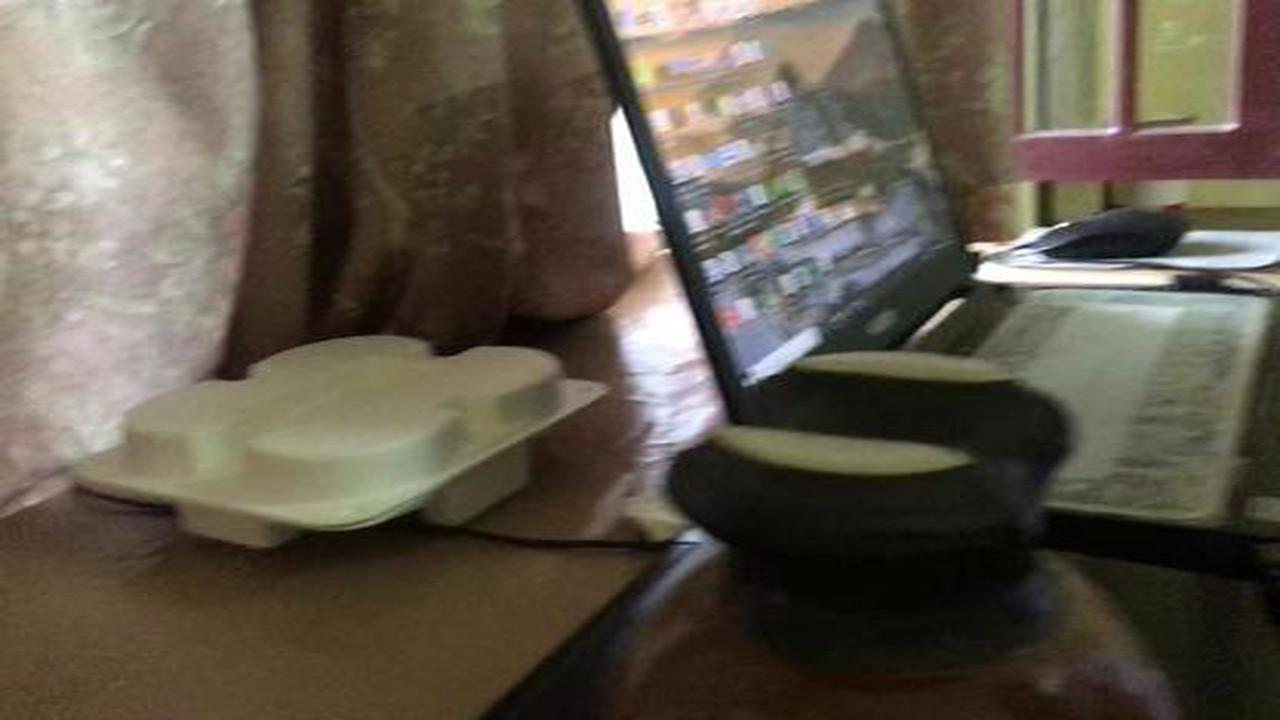insulator_pin: (576, 328, 1213, 714)
